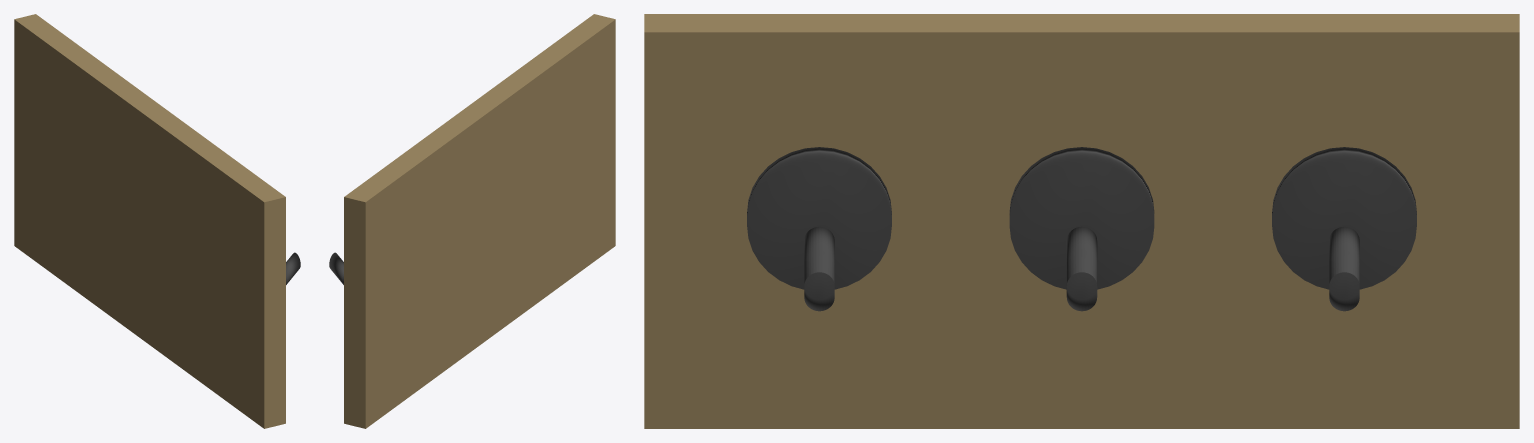
File: key holder.fbx
The picture shows the model from 3 angles, left to right: view 1: azimuth 30°, elevation 25°; view 2: azimuth 150°, elevation 25°; view 3: azimuth 270°, elevation 25°; orthographic projection. The views are drawn at different scales.
Parts seen in each view (by area): view 1: Cube; view 2: Cube; view 3: Cube.
Part boxes in pixels (<box>): Cube: <box>14,14,300,428</box>; Cube: <box>329,14,615,428</box>; Cube: <box>644,14,1519,428</box>.
Size of the model in its own units: 75.87 by 200 by 400.
